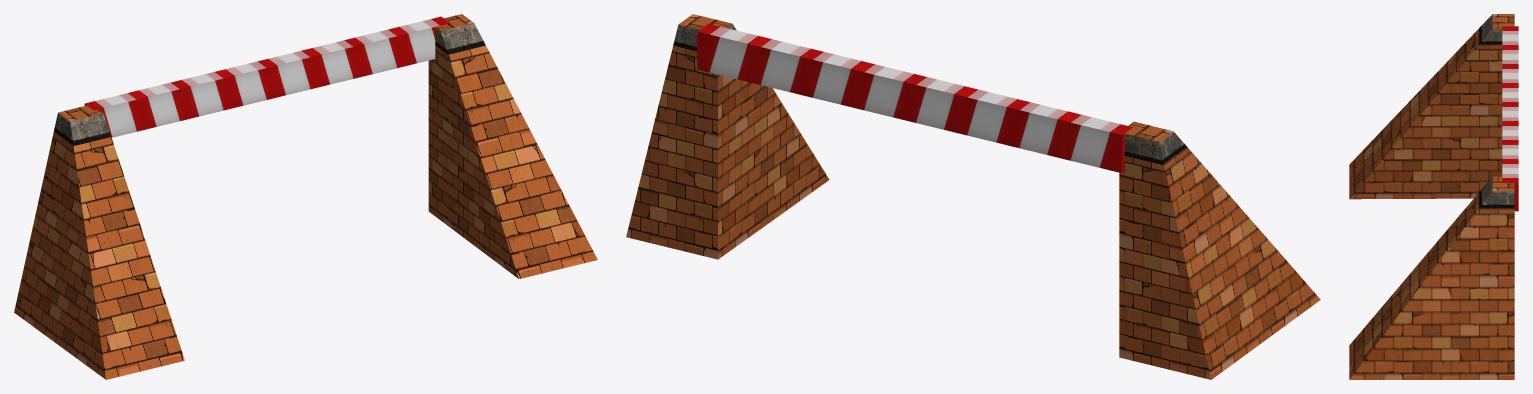
File: brg_entry.FBX
3 renders of one model, left to right at view 1: azimuth 30°, elevation 25°; view 2: azimuth 150°, elevation 25°; view 3: azimuth 270°, elevation 25°, orthographic. The views are drawn at different scales.
Parts seen in each view (by area): view 1: Plane002; view 2: Plane002; view 3: Plane002.
Part boxes in pixels (x1=…): Plane002: x1=14, y1=14, x2=597, y2=379; Plane002: x1=626, y1=14, x2=1320, y2=379; Plane002: x1=1349, y1=14, x2=1518, y2=379.
Size of the model in its own units: 2874 by 1059 by 955.
